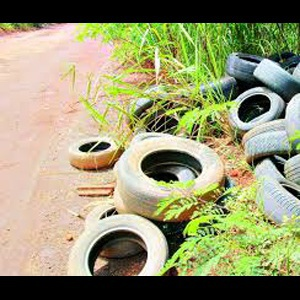tire: (115, 138, 227, 222), (65, 217, 170, 276), (83, 200, 162, 257), (229, 87, 285, 132), (258, 180, 300, 230), (253, 58, 300, 101), (242, 133, 300, 166), (226, 52, 280, 86), (69, 136, 123, 169), (251, 157, 300, 191)
